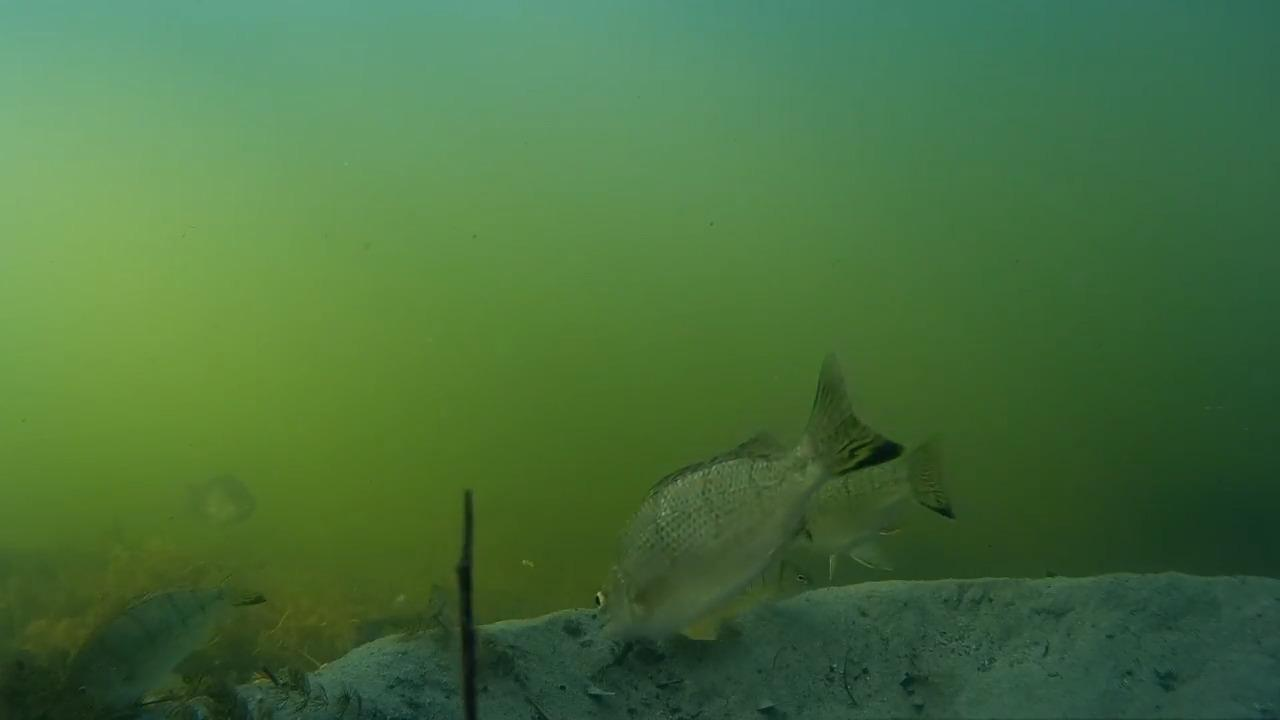Tilapia: (586, 350, 943, 678), (16, 570, 283, 714), (758, 436, 965, 600), (175, 454, 258, 528)
